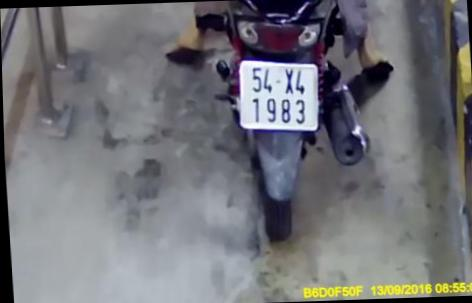LP: (234, 54, 321, 136)
